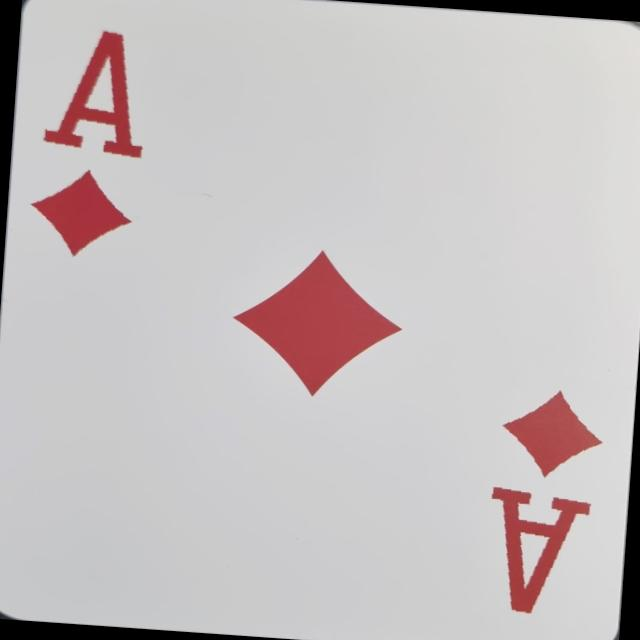Ad: (452, 364, 623, 640), (14, 12, 171, 282)
